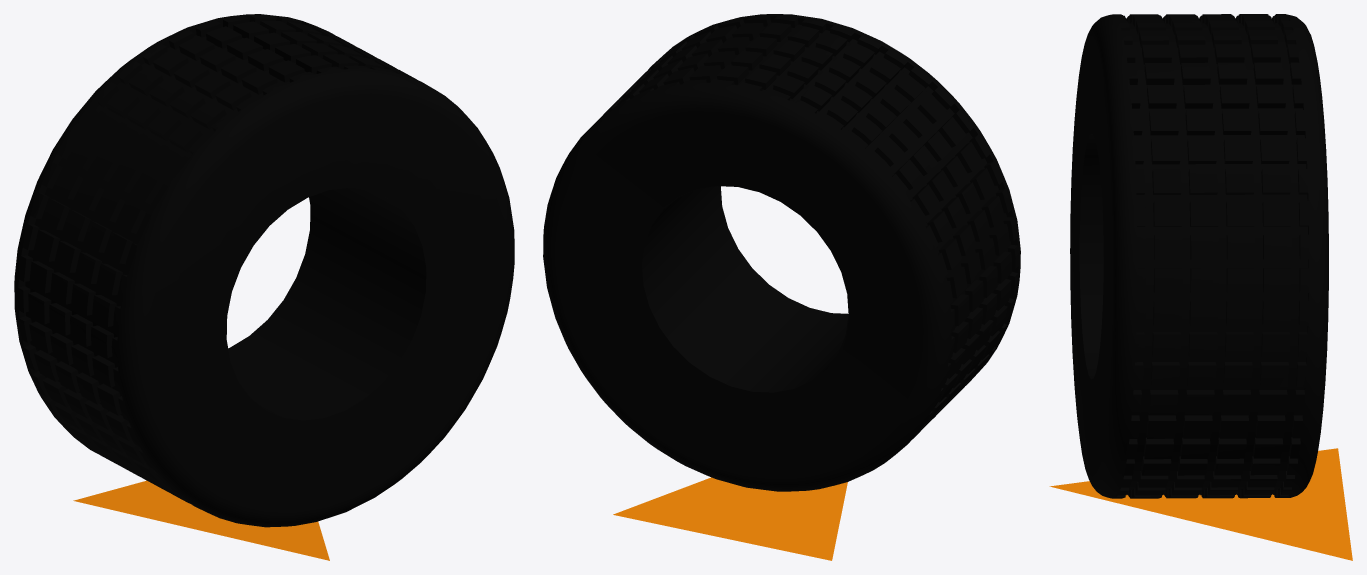
Rendered from vehicle_wheel_front_right.obj.
3 views of the same model, side by side, from view 1: azimuth 30°, elevation 25°; view 2: azimuth 150°, elevation 25°; view 3: azimuth 270°, elevation 25° (orthographic). The views are drawn at different scales.
Size of the model in its own units: 0.113 by 0.119 by 0.069.
